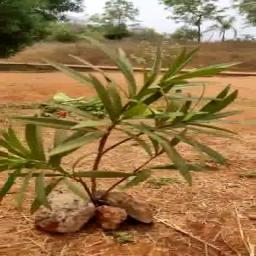OLEANDER: (9, 46, 228, 183)
